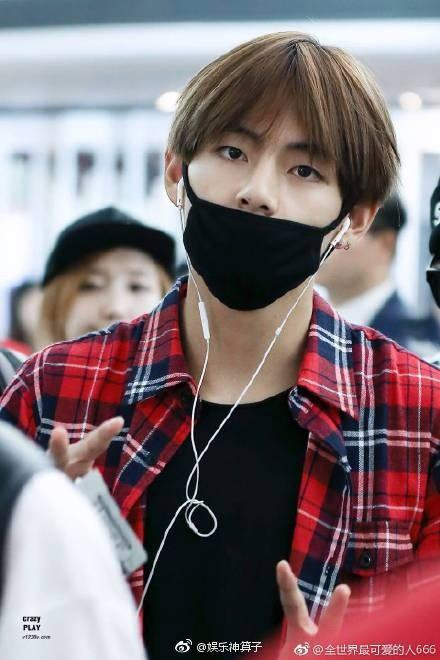NONE: (63, 260, 164, 363)
WRONG: (176, 108, 343, 304)
